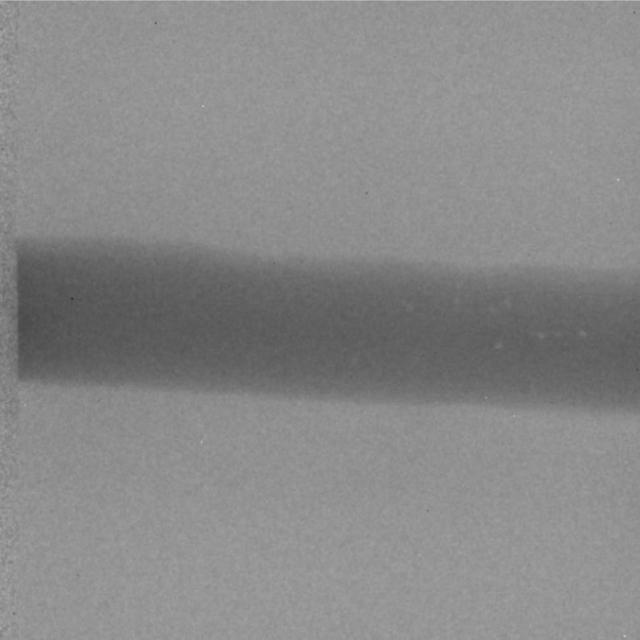air hole: (492, 337, 504, 353), (534, 327, 547, 341), (500, 296, 515, 308), (577, 325, 587, 338), (552, 327, 563, 337)
